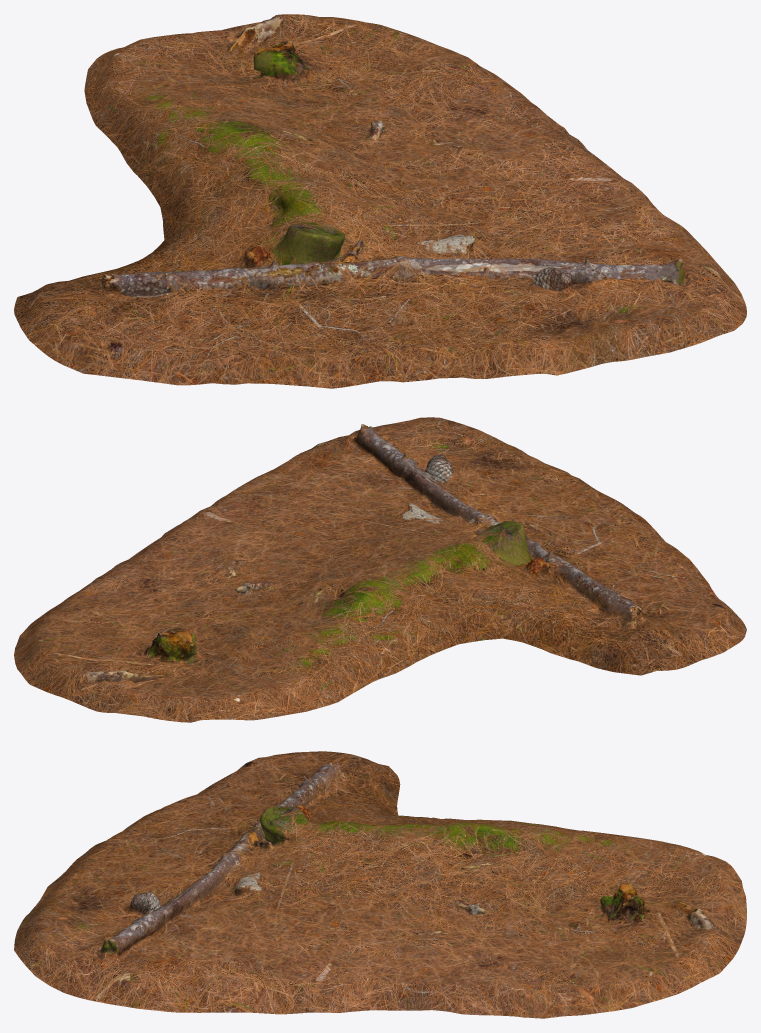
The model's file is fallen_pine_tree_rhfnt_mid.glb.
The picture shows the model from 3 angles, top to bottom: view 1: azimuth 30°, elevation 25°; view 2: azimuth 150°, elevation 25°; view 3: azimuth 270°, elevation 25°; orthographic projection. The views are drawn at different scales.
Visible parts, largest first — view 1: rhfnt_LOD0_TIER2_000; view 2: rhfnt_LOD0_TIER2_000; view 3: rhfnt_LOD0_TIER2_000.
Boxes of the visible parts, x1,y1,x2,y2 form: rhfnt_LOD0_TIER2_000: (14,14,746,388); rhfnt_LOD0_TIER2_000: (14,417,746,722); rhfnt_LOD0_TIER2_000: (14,751,746,1018).
Bounding box in the file's own units: 1.37 × 0.1559 × 1.65.
1 material, 1 textured.
